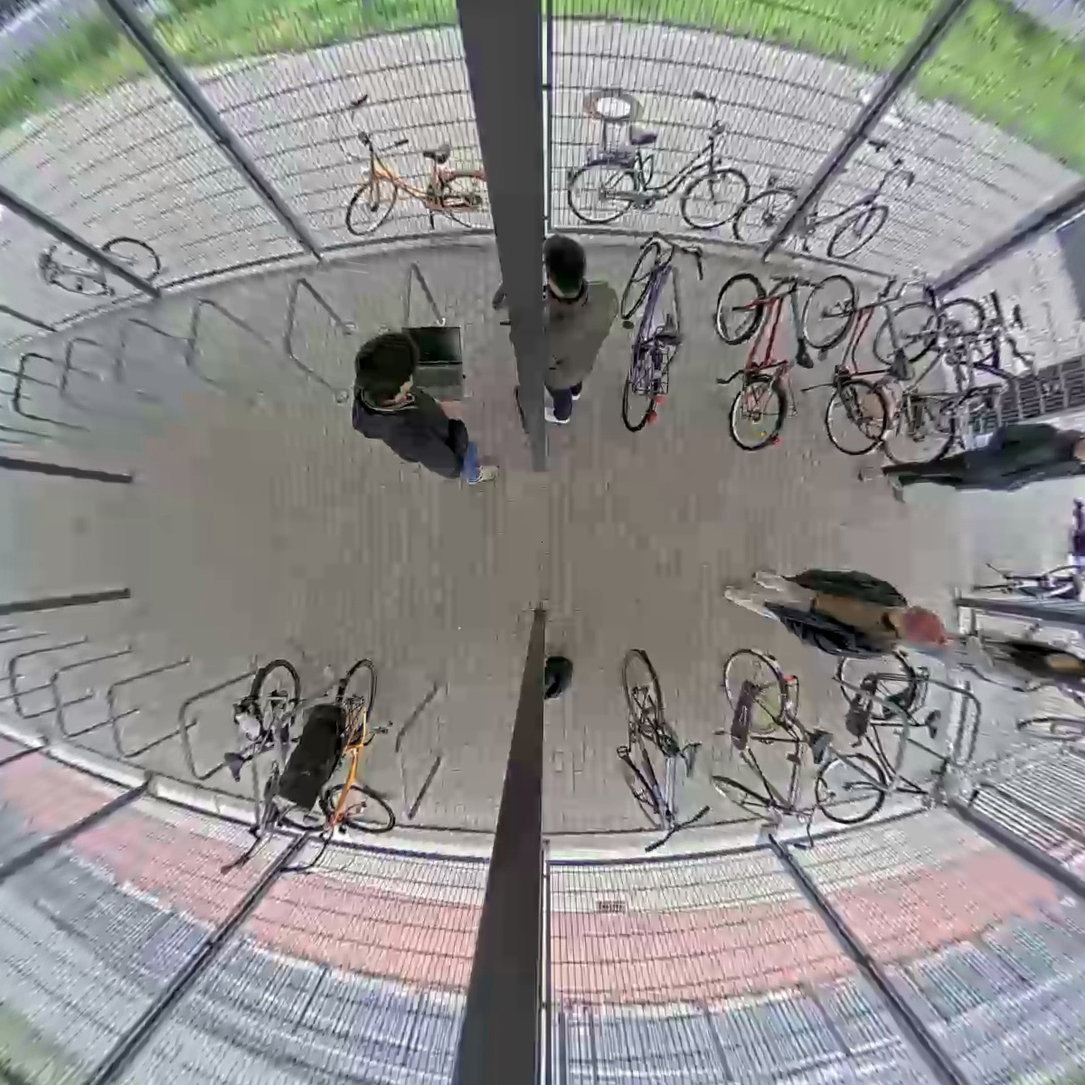bicylce: (615, 644, 707, 856), (711, 641, 808, 828), (820, 652, 915, 825), (224, 662, 301, 872), (717, 264, 803, 450), (816, 279, 898, 453), (615, 233, 685, 430), (326, 657, 393, 856), (930, 297, 1007, 449), (884, 300, 948, 469)
saddle: (807, 732, 835, 764), (677, 741, 701, 778), (656, 312, 684, 343), (893, 345, 916, 380), (223, 751, 245, 783), (794, 337, 815, 369), (924, 709, 942, 739), (1011, 303, 1026, 335), (983, 383, 1001, 409)
